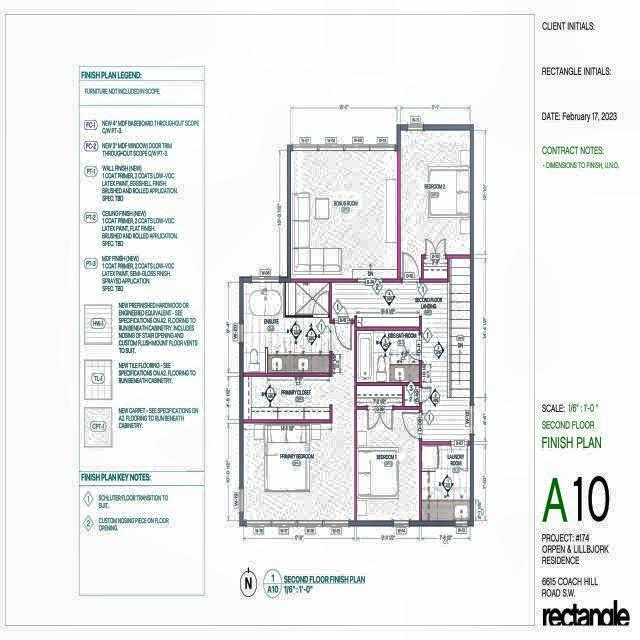room: (401, 131, 470, 279), (357, 410, 419, 520), (422, 445, 470, 521), (357, 331, 419, 382), (286, 282, 329, 315), (424, 258, 447, 279), (404, 386, 420, 406)
